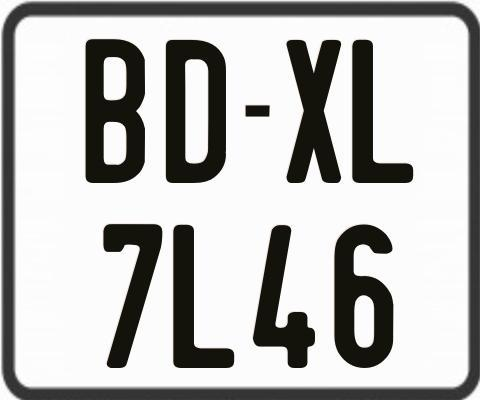4: (252, 225, 315, 369)
6: (331, 223, 390, 370)
7: (103, 221, 162, 371)
B: (86, 36, 145, 180)
D: (165, 40, 229, 183)
L: (172, 223, 236, 371), (349, 37, 414, 180)
X: (283, 39, 341, 186)
